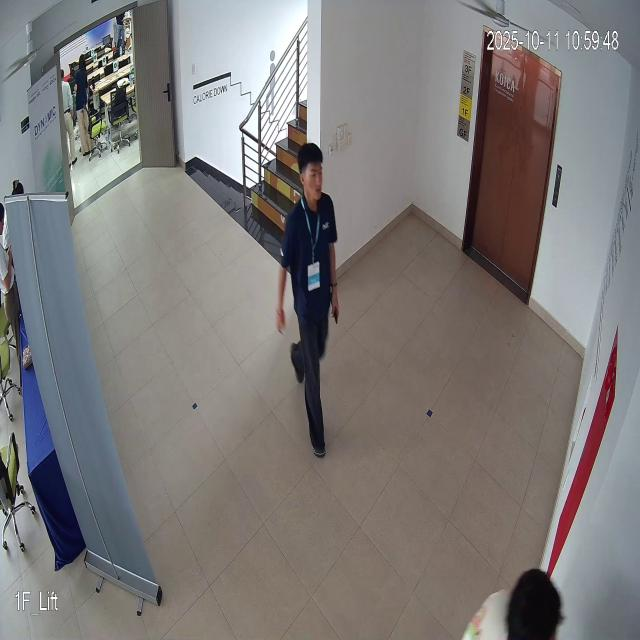face: (292, 136, 328, 203)
